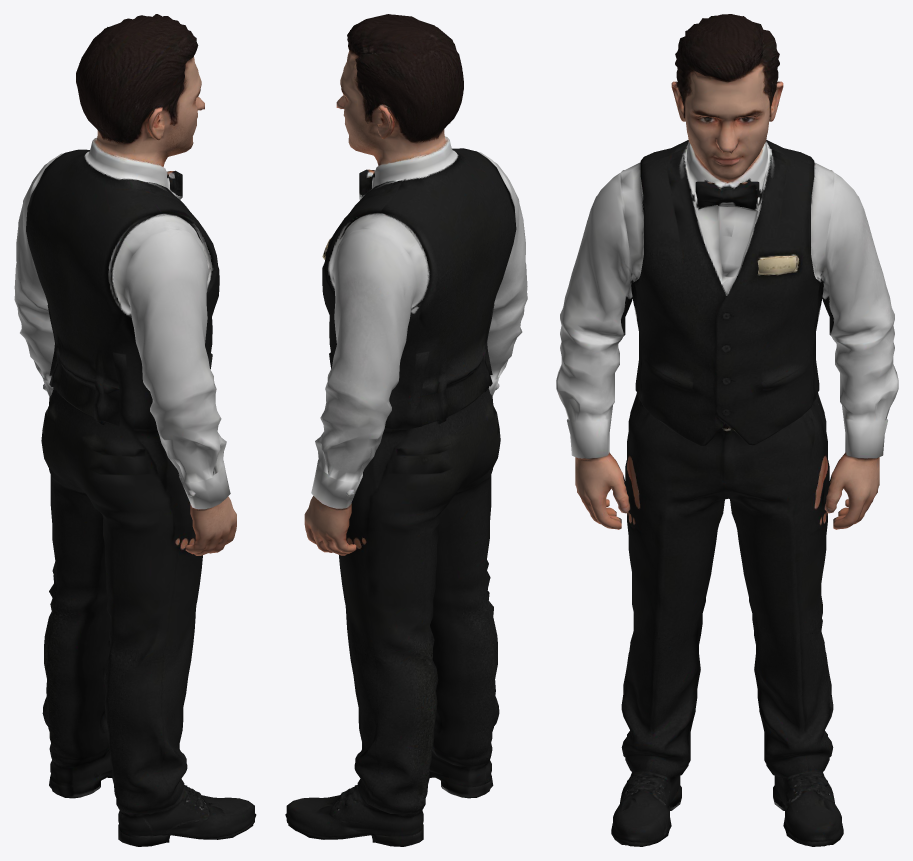
The model's file is waiter+uniform+3d+model.glb.
3 views of the same model, side by side, from view 1: azimuth 30°, elevation 25°; view 2: azimuth 150°, elevation 25°; view 3: azimuth 270°, elevation 25° (orthographic).
Parts seen in each view (by area): view 1: tripo_node_7e940e70-3dbd-4561-879a-b9d689296612; view 2: tripo_node_7e940e70-3dbd-4561-879a-b9d689296612; view 3: tripo_node_7e940e70-3dbd-4561-879a-b9d689296612.
Boxes of the visible parts, x1,y1,x2,y2 form: tripo_node_7e940e70-3dbd-4561-879a-b9d689296612: (14,14,256,846); tripo_node_7e940e70-3dbd-4561-879a-b9d689296612: (285,14,527,846); tripo_node_7e940e70-3dbd-4561-879a-b9d689296612: (556,14,898,846).
Bounding box in the file's own units: 0.1937 × 0.9801 × 0.3817.
Materials: 1 (1 with a texture image).
